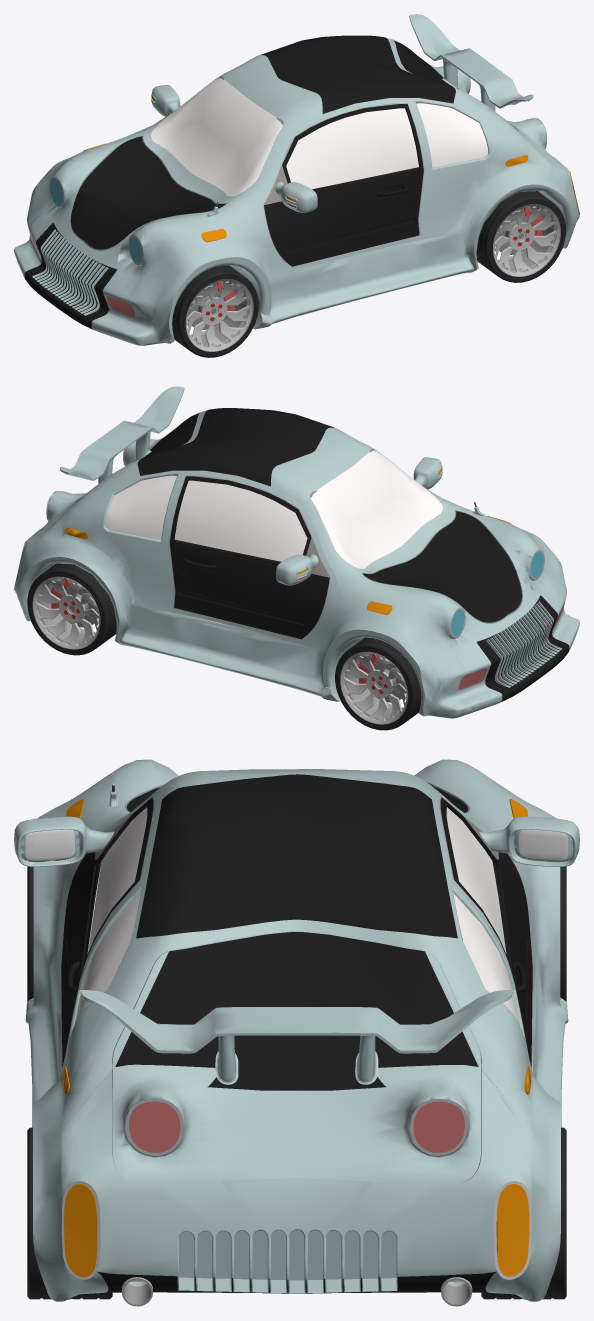
The picture shows the model from 3 angles, top to bottom: view 1: azimuth 30°, elevation 25°; view 2: azimuth 150°, elevation 25°; view 3: azimuth 270°, elevation 25°; orthographic projection. The views are drawn at different scales.
Visible parts, largest first — view 1: Mesh_10.001_LOD_4, door left:1.001_LOD_4, whell v7:2.001_LOD_4, whell v7:1.001_LOD_4, door left(Symétrie miroir):1.001_LOD_4; view 2: Mesh_10.001_LOD_4, door left:1.001_LOD_4, door left(Symétrie miroir):1.001_LOD_4, whell v6(Symétrie miroir):2.001_LOD_4, whell v6(Symétrie miroir):1.001_LOD_4; view 3: Mesh_10.001_LOD_4, door left:1.001_LOD_4, door left(Symétrie miroir):1.001_LOD_4, whell v6(Symétrie miroir):2.001_LOD_4, whell v7:2.001_LOD_4, whell v6(Symétrie miroir):1.001_LOD_4, whell v7:1.001_LOD_4.
Part boxes in pixels (x1,y1,x2,y2): Mesh_10.001_LOD_4: [14, 14, 579, 345]; door left:1.001_LOD_4: [263, 103, 424, 267]; whell v7:2.001_LOD_4: [476, 191, 565, 282]; whell v7:1.001_LOD_4: [172, 265, 258, 357]; door left(Symétrie miroir):1.001_LOD_4: [151, 84, 180, 116]; Mesh_10.001_LOD_4: [14, 386, 579, 718]; door left:1.001_LOD_4: [169, 457, 442, 639]; door left(Symétrie miroir):1.001_LOD_4: [169, 475, 330, 639]; whell v6(Symétrie miroir):2.001_LOD_4: [27, 563, 116, 655]; whell v6(Symétrie miroir):1.001_LOD_4: [335, 637, 421, 730]; Mesh_10.001_LOD_4: [25, 759, 568, 1306]; door left:1.001_LOD_4: [14, 796, 532, 1067]; door left(Symétrie miroir):1.001_LOD_4: [439, 796, 579, 970]; whell v6(Symétrie miroir):2.001_LOD_4: [481, 1127, 566, 1299]; whell v7:2.001_LOD_4: [27, 1127, 112, 1299]; whell v6(Symétrie miroir):1.001_LOD_4: [560, 866, 566, 1001]; whell v7:1.001_LOD_4: [27, 866, 33, 1001].
Size of the model in its own units: 0.1643 by 0.0655 by 0.0922.
